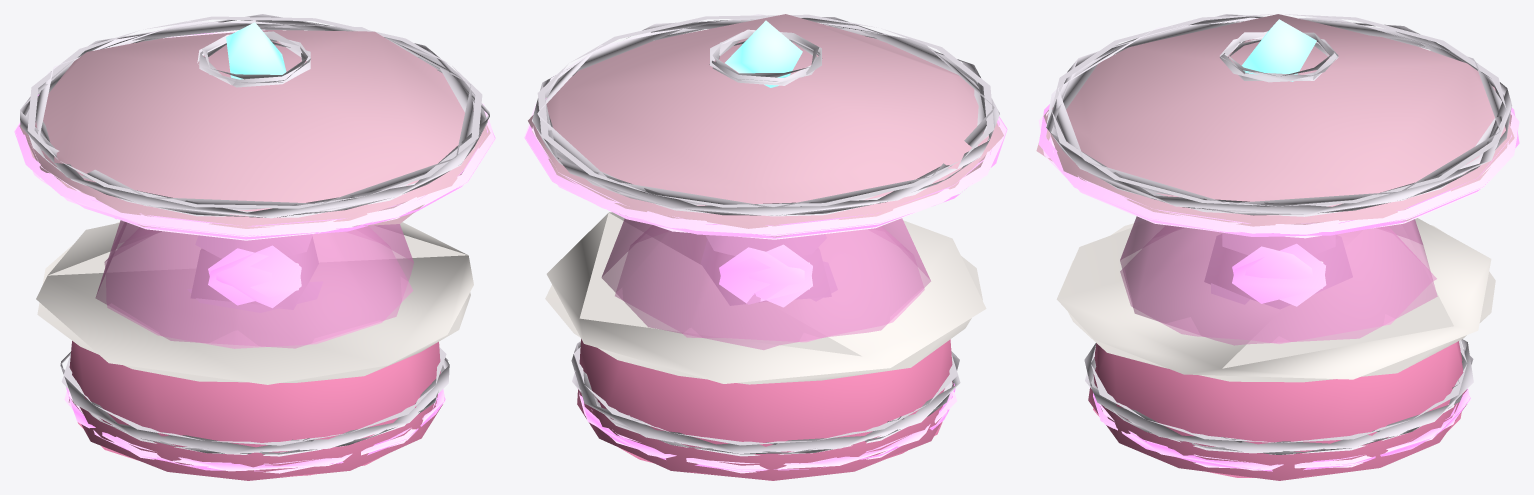
File: lod_kiosk_pod.glb
3 renders of one model, left to right at view 1: azimuth 30°, elevation 25°; view 2: azimuth 150°, elevation 25°; view 3: azimuth 270°, elevation 25°, orthographic.
Parts seen in each view (by area): view 1: kiosk_pod; view 2: kiosk_pod; view 3: kiosk_pod.
Boxes of the visible parts, x1,y1,x2,y2 form: kiosk_pod: (14, 14, 495, 480); kiosk_pod: (524, 14, 1007, 480); kiosk_pod: (1036, 14, 1519, 480).
Size of the model in its own units: 3.91 by 3.44 by 3.93.
